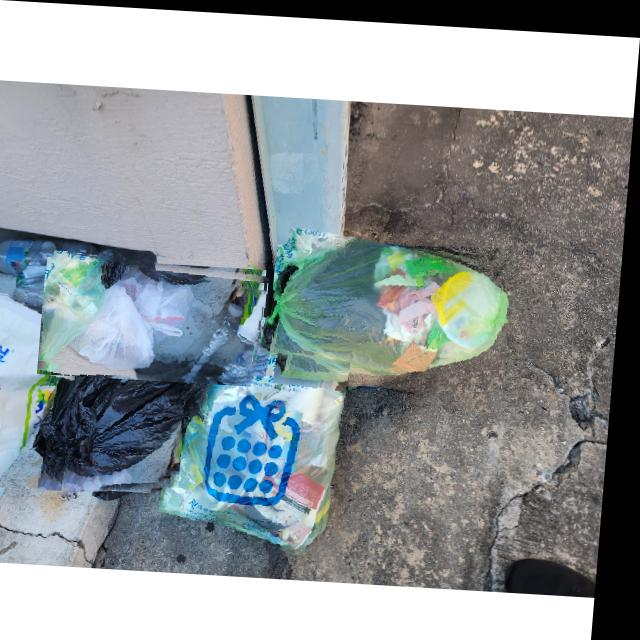general_trashbag: (265, 224, 528, 401), (164, 341, 356, 551)
other_trashbag: (45, 250, 273, 383), (60, 341, 190, 492), (0, 294, 88, 489)
